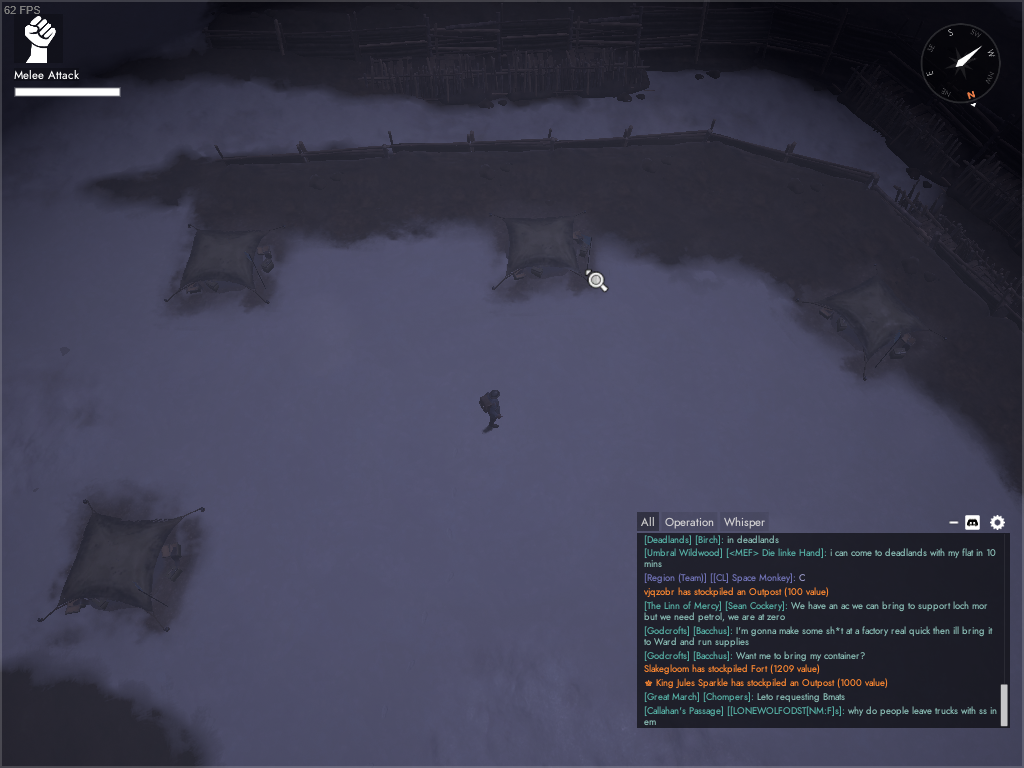foxhole: (36, 499, 207, 633), (795, 261, 950, 382), (161, 222, 287, 308), (487, 210, 595, 292)
player: (478, 389, 504, 429)
